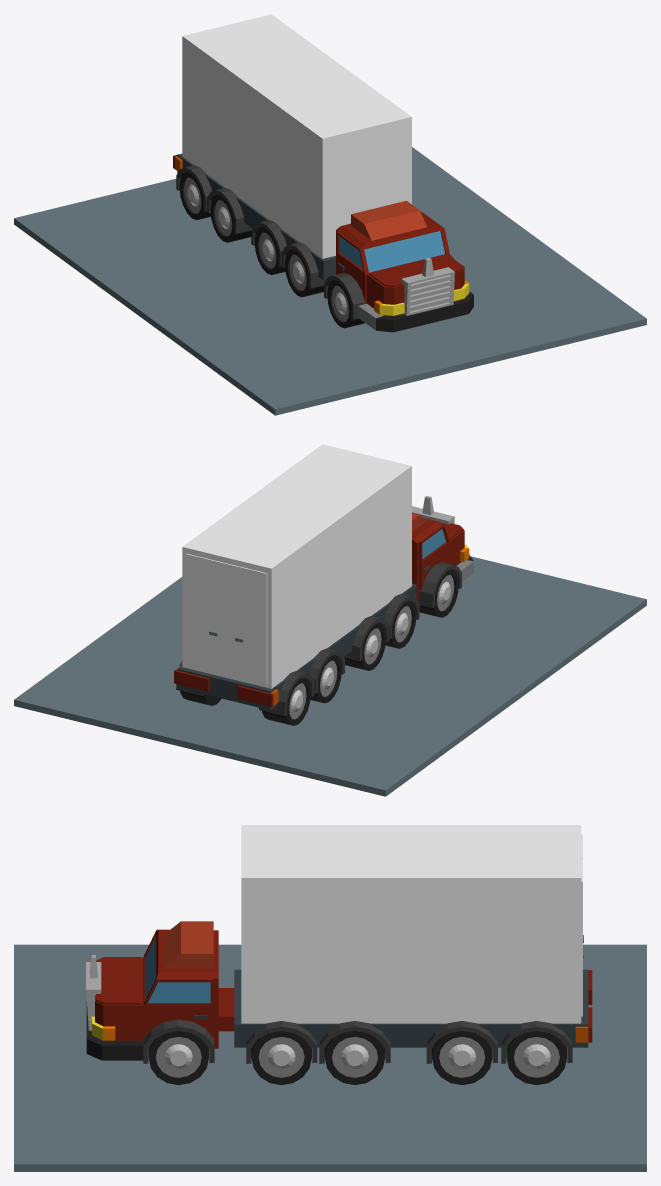
File: truck.glb
3 views of the same model, one above another, from view 1: azimuth 30°, elevation 25°; view 2: azimuth 150°, elevation 25°; view 3: azimuth 270°, elevation 25° (orthographic). The views are drawn at different scales.
Visible parts, largest first — view 1: Cube.011, Cube, Cube.009, Cube.007, Cube.006, Cube.008, Cube.010; view 2: Cube.011, Cube, Cube.010, Cube.008, Cube.006, Cube.007, Cube.009; view 3: Cube, Cube.011, Cube.003, Cube.002, Cube.005, Cube.001, Cube.004.
Part boxes in pixels (left/top/right/bottom): Cube.011: left=14, top=147, right=646, bottom=415; Cube: left=173, top=14, right=473, bottom=332; Cube.009: left=210, top=194, right=251, bottom=242; Cube.007: left=284, top=249, right=323, bottom=297; Cube.006: left=327, top=280, right=364, bottom=328; Cube.008: left=254, top=226, right=285, bottom=274; Cube.010: left=179, top=172, right=210, bottom=220; Cube.011: left=14, top=556, right=646, bottom=796; Cube: left=174, top=444, right=473, bottom=716; Cube.010: left=262, top=677, right=311, bottom=725; Cube.008: left=345, top=622, right=386, bottom=670; Cube.006: left=419, top=569, right=458, bottom=617; Cube.007: left=385, top=600, right=416, bottom=648; Cube.009: left=310, top=655, right=341, bottom=703; Cube: left=86, top=825, right=592, bottom=1063; Cube.011: left=14, top=944, right=646, bottom=1171; Cube.003: left=324, top=1031, right=385, bottom=1084; Cube.002: left=251, top=1031, right=311, bottom=1085; Cube.005: left=506, top=1031, right=566, bottom=1084; Cube.001: left=148, top=1031, right=208, bottom=1084; Cube.004: left=432, top=1031, right=492, bottom=1084.
Bounding box in the file's own units: 17.19 × 7.68 × 20.92.
Materials: 1 (1 with a texture image).
